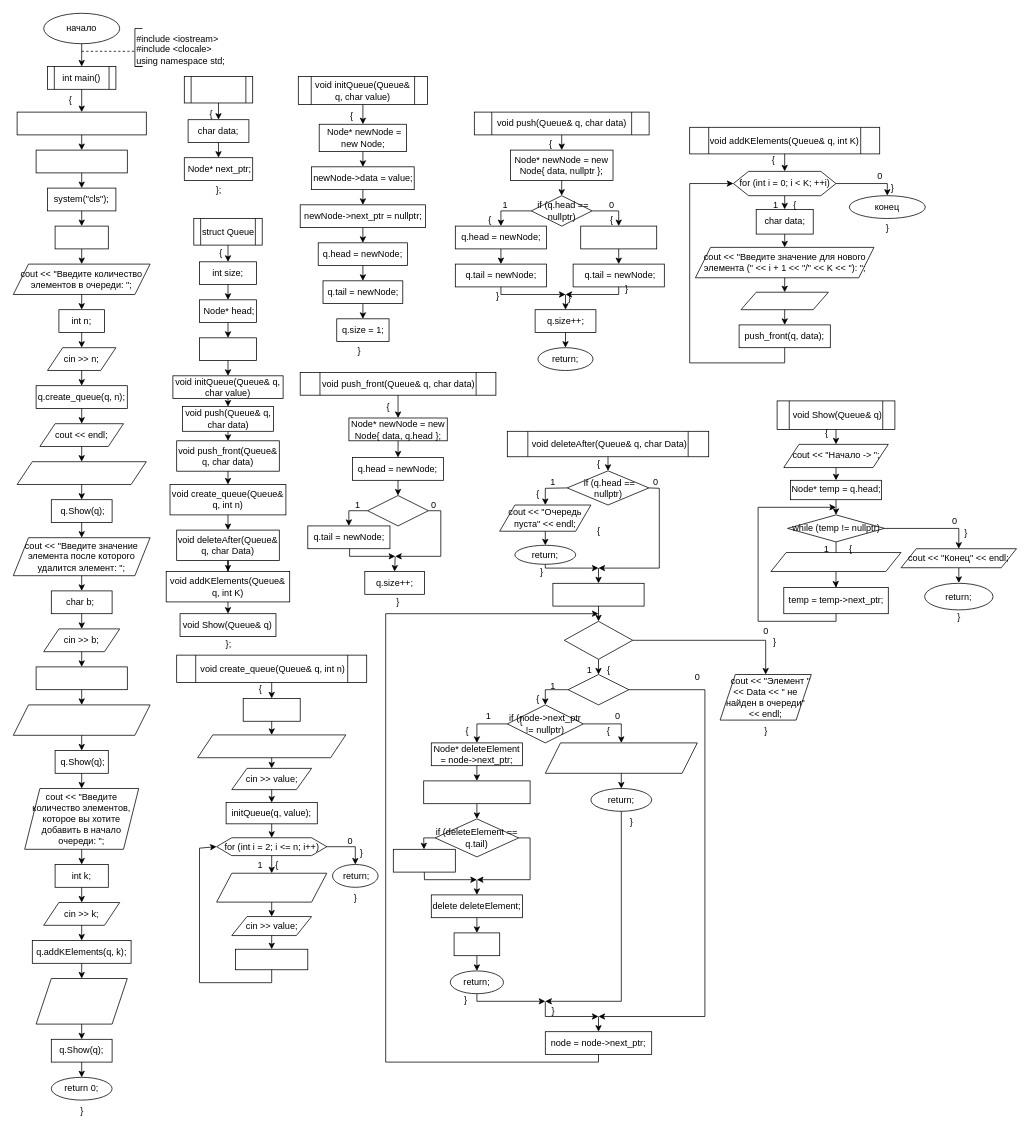
The diagram is 1030 pixels wide and 1136 high, and some of its shapes have lost their labels. The centre of each missing label's shape, as x and y in pixels:
char value;: [271,709]
cin >> data;: [784,300]
cout << "Ваша очередь после добавления элементов: ";: [81,1001]
cout << "Ваша очередь после удаления элемента: ";: [81,719]
cout << "Ваша очередь: ";: [81,472]
cout << "Введите элемент " << i << ": ";: [271,887]
cout << "Введите элемент 1: ";: [271,746]
cout << "После элемента " << Data << " нет других элементов" << endl;: [621,757]
cout << temp->data << " -> ";: [835,562]
if (node->data == Data): [598,689]
if (q.tail == nullptr): [397,510]
Node* node = q.head;: [598,594]
Node* tail;: [227,349]
node->next_ptr = deleteElement->next_ptr;: [476,792]
push(q, value);: [271,959]
q.deleteAfter(q, b);: [81,678]
q.size--;: [476,944]
q.tail = node;: [424,860]
q.tail->next_ptr = newNode;: [618,237]
Queue q;: [81,237]
setlocale(LC_ALL, "Russian");: [81,123]
struct Node: [218,89]
system("chcp 1251");: [81,161]
while (node != nullptr): [598,640]
